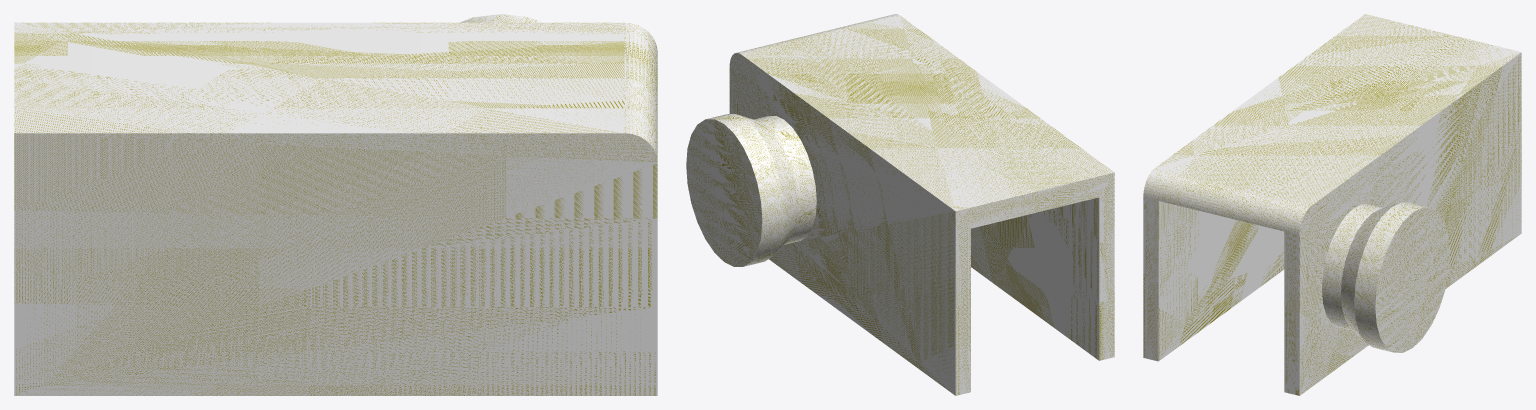
Rendered from original-14.obj.
3 views of the same model, side by side, from view 1: azimuth 30°, elevation 25°; view 2: azimuth 150°, elevation 25°; view 3: azimuth 270°, elevation 25° (orthographic). The views are drawn at different scales.
Parts seen in each view (by area): view 1: mesh8/mesh8-geometry#mesh8-geometry; view 2: mesh8/mesh8-geometry#mesh8-geometry; view 3: mesh8/mesh8-geometry#mesh8-geometry.
Boxes of the visible parts, x1,y1,x2,y2 form: mesh8/mesh8-geometry#mesh8-geometry: [14, 14, 657, 395]; mesh8/mesh8-geometry#mesh8-geometry: [686, 14, 1114, 395]; mesh8/mesh8-geometry#mesh8-geometry: [1143, 14, 1521, 395].
Bounding box in the file's own units: 0.0997 × 0.0415 × 0.0785.
